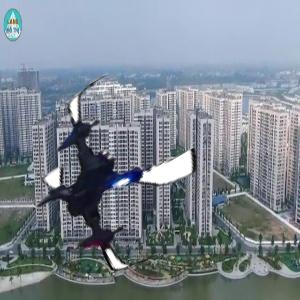drone: (20, 77, 215, 272)
